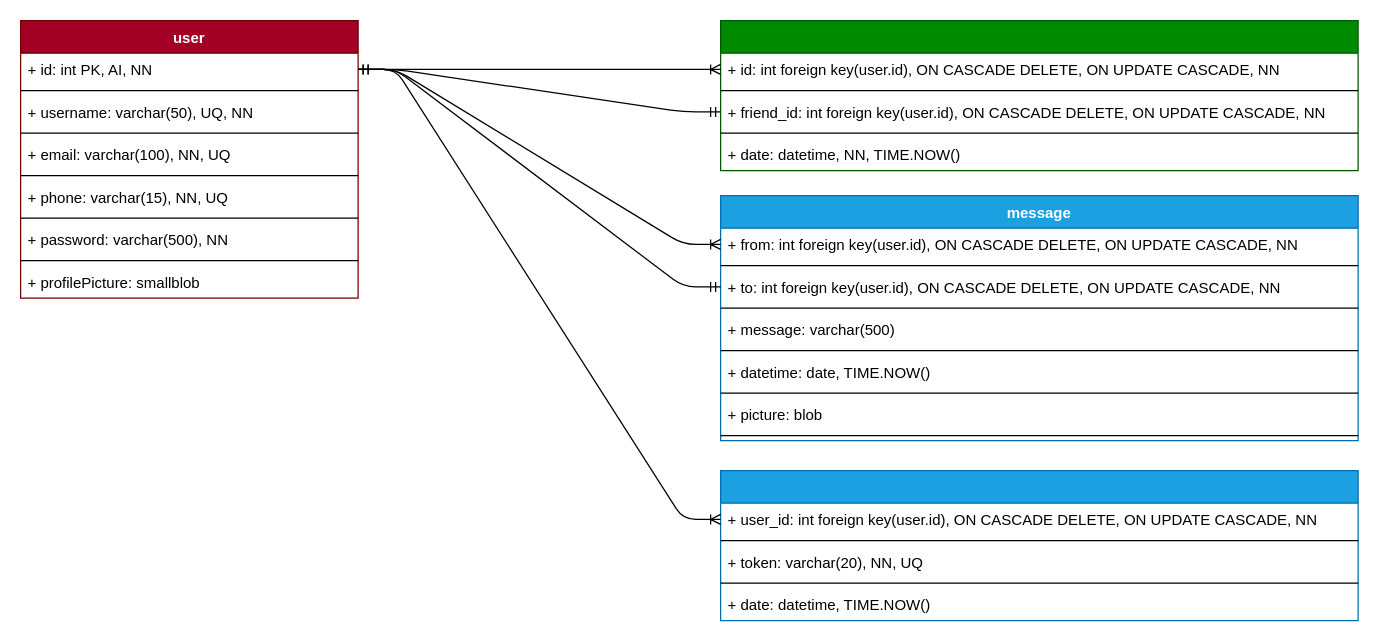
The diagram is 1379 pixels wide and 641 high, and some of its shapes have lost their labels. The shapes that lost their labels are listed below. From the top down, each one's box as (x1, y1, x2, y2) in pixels, then its label:
(719, 19, 1358, 171): friends
(719, 469, 1358, 621): auth
